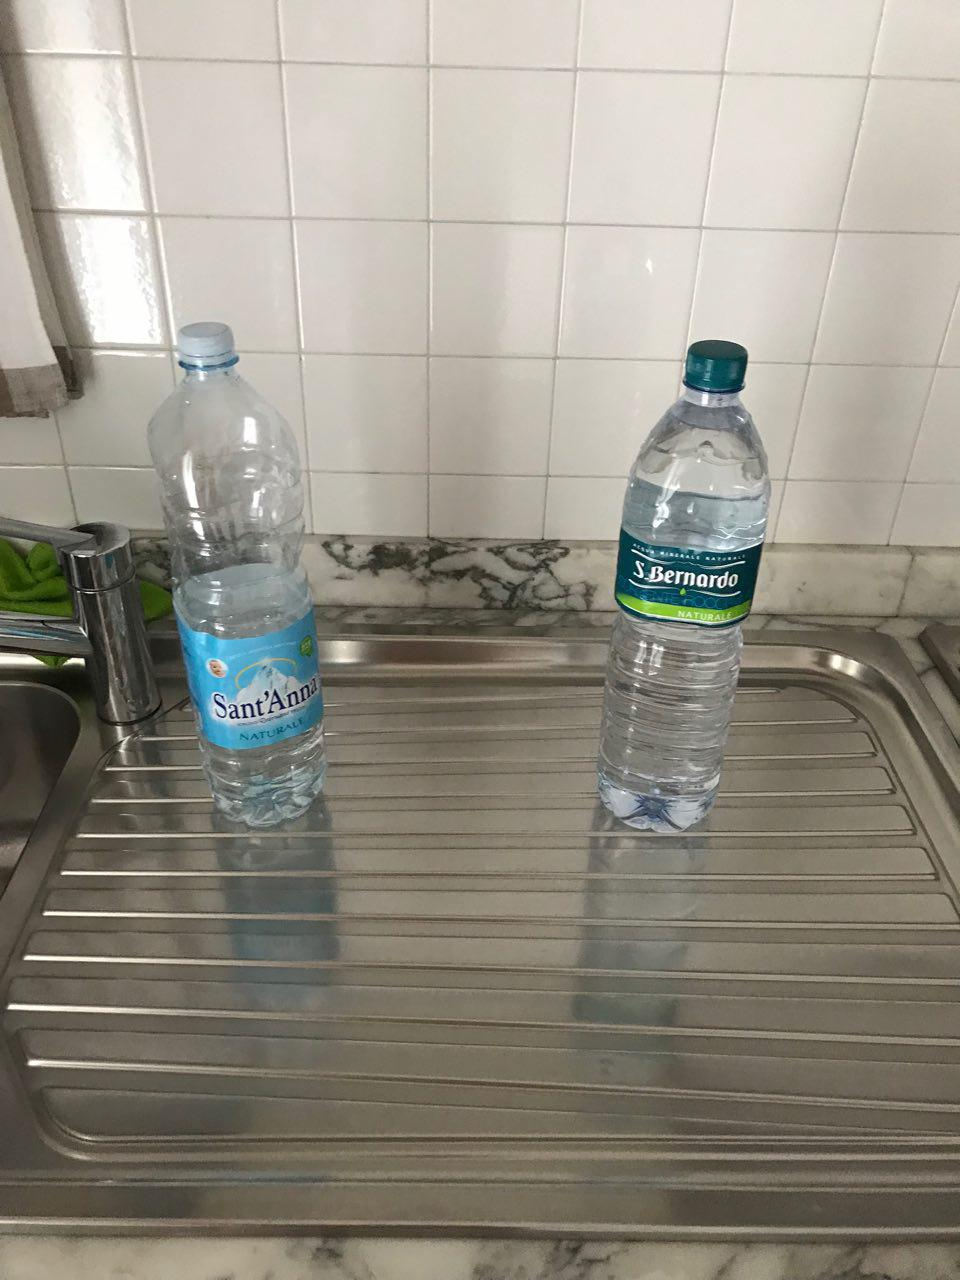san_bernardo: (596, 338, 772, 834)
